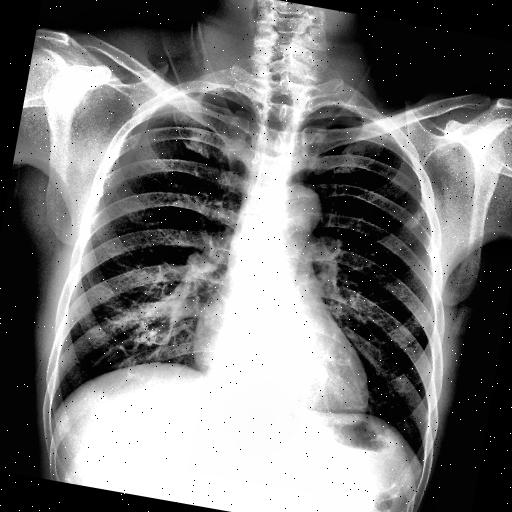11- Pleural thickening: (196, 82, 248, 98), (322, 101, 362, 117)
7- Lung Opacity: (405, 208, 426, 230), (406, 206, 422, 230)
9- Other lesion: (407, 208, 425, 230), (406, 206, 422, 230)
